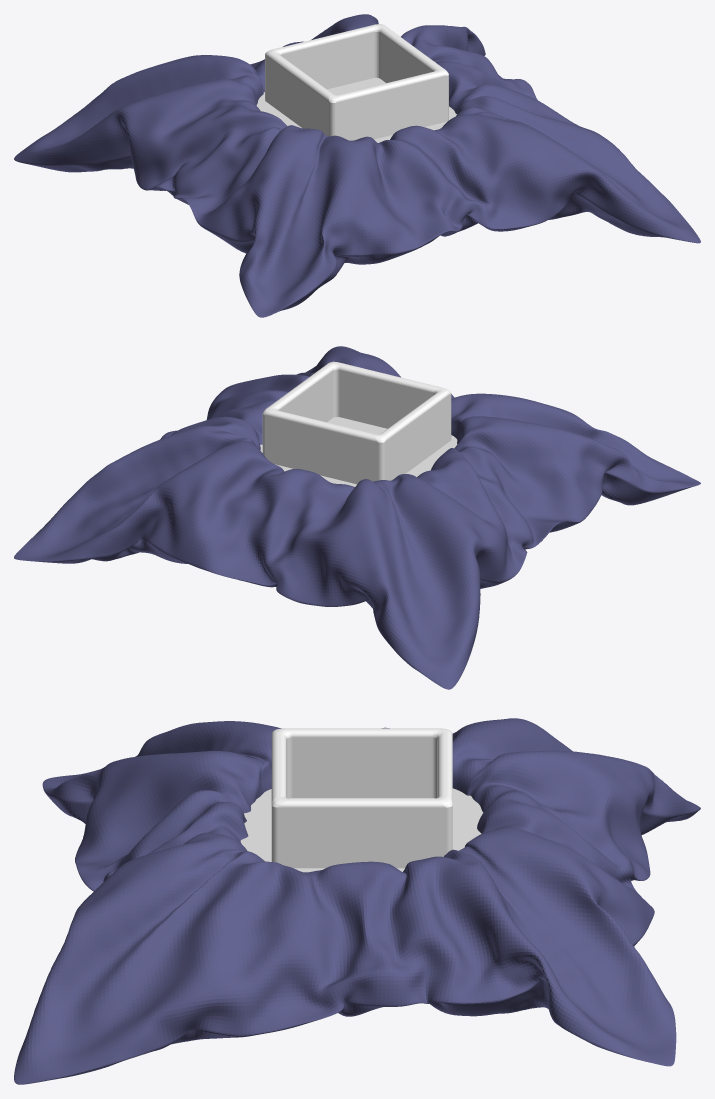
The model's file is opencandypouchJ.fbx.
3 views of the same model, one above another, from view 1: azimuth 30°, elevation 25°; view 2: azimuth 150°, elevation 25°; view 3: azimuth 270°, elevation 25° (orthographic). The views are drawn at different scales.
Visible parts, largest first — view 1: Plane, Cube, Cylinder; view 2: Plane, Cube, Cylinder; view 3: Plane, Cube, Cylinder.
Part boxes in pixels (left/top/right/bottom): Plane: left=14, top=14, right=700, bottom=317; Cube: left=265, top=24, right=448, bottom=140; Cylinder: left=256, top=77, right=456, bottom=142; Plane: left=14, top=346, right=700, bottom=689; Cube: left=262, top=361, right=451, bottom=484; Cylinder: left=260, top=417, right=457, bottom=486; Plane: left=14, top=718, right=700, bottom=1084; Cube: left=271, top=728, right=452, bottom=868; Cylinder: left=240, top=788, right=483, bottom=872.
Size of the model in its own units: 184 by 55.54 by 190.
